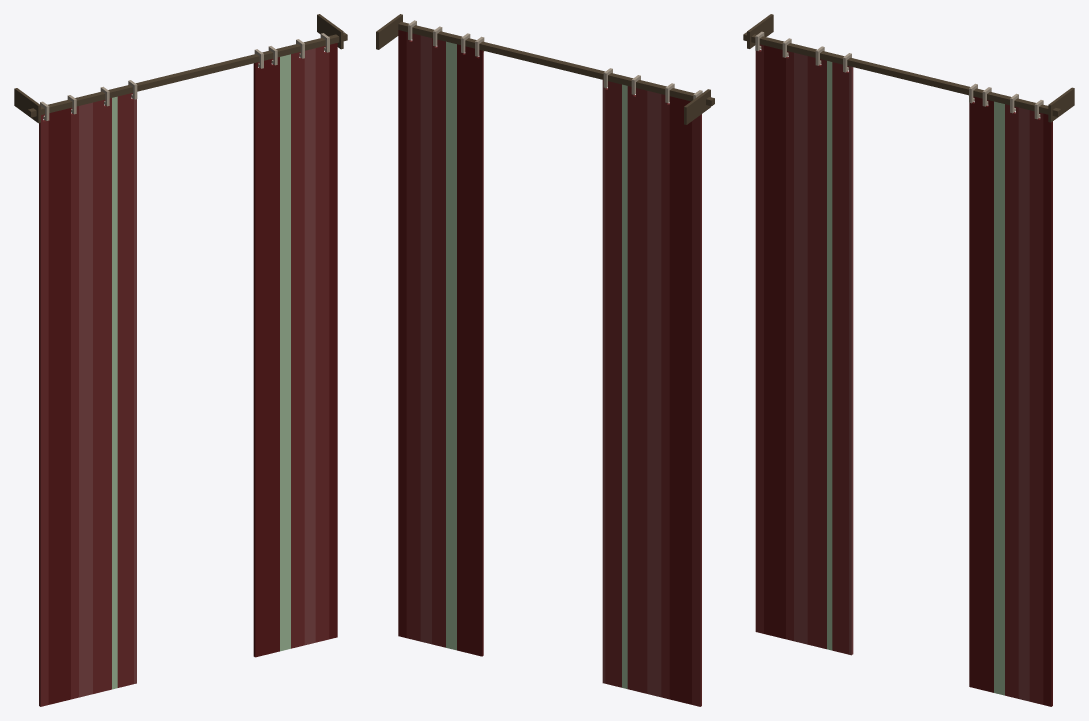
The model's file is curtains.obj.
The picture shows the model from 3 angles, left to right: view 1: azimuth 30°, elevation 25°; view 2: azimuth 150°, elevation 25°; view 3: azimuth 330°, elevation 25°; orthographic projection. The views are drawn at different scales.
Bounding box in the file's own units: 11.5 × 21.1 × 1.5.
1 material, 1 textured.
